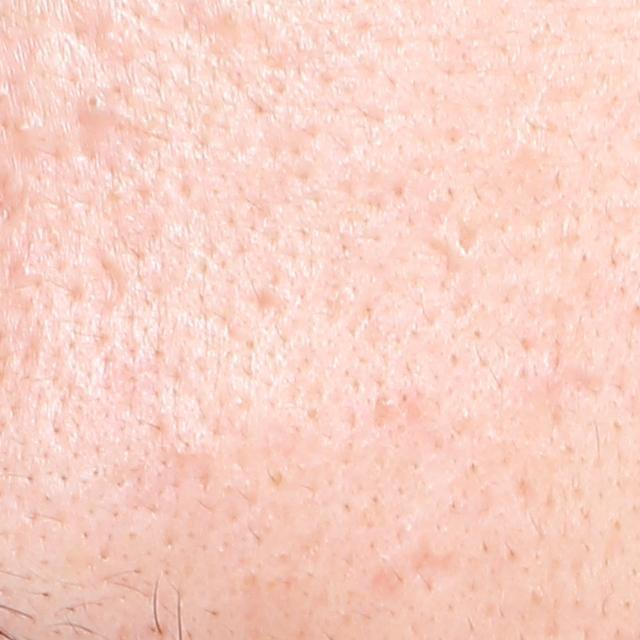atrophic_scar: (79, 240, 129, 314), (407, 539, 470, 579), (455, 217, 479, 256)
comedo: (11, 110, 44, 138), (81, 88, 108, 117)
